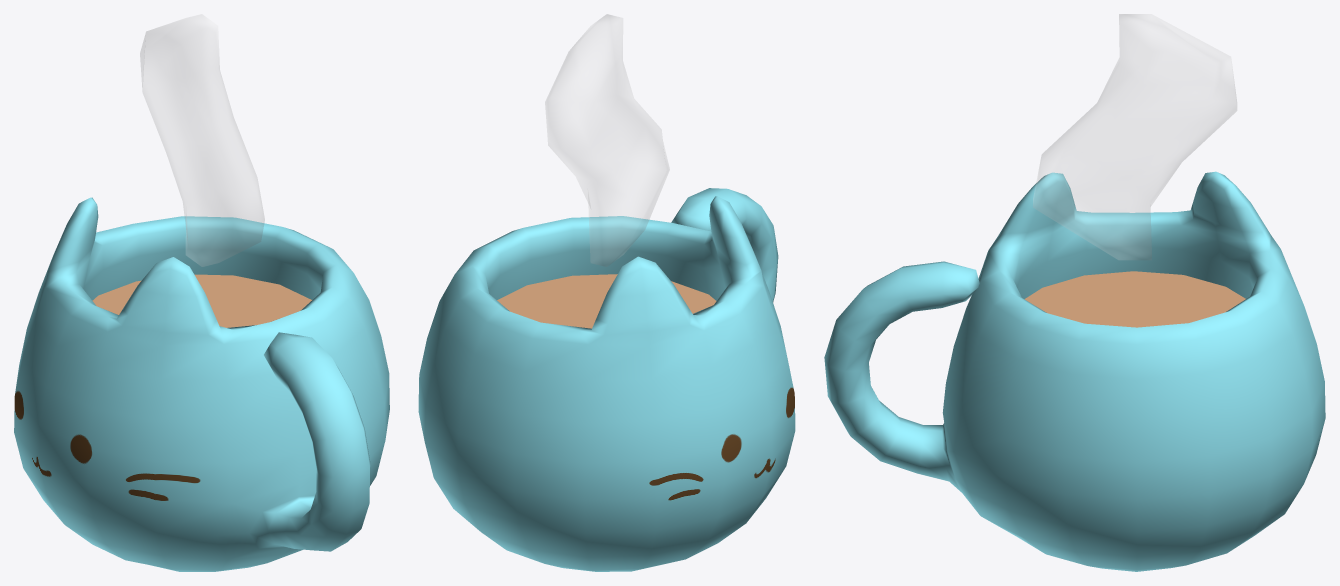
The model's file is cat_mug.glb.
3 views of the same model, side by side, from view 1: azimuth 30°, elevation 25°; view 2: azimuth 150°, elevation 25°; view 3: azimuth 270°, elevation 25° (orthographic).
Visible parts, largest first — view 1: ceramic, steam2, liquid; view 2: ceramic, steam2, liquid; view 3: ceramic, steam2, liquid.
Boxes of the visible parts, bbox=[...] form: ceramic: bbox=[14, 197, 389, 571]; steam2: bbox=[140, 14, 264, 266]; liquid: bbox=[92, 274, 311, 327]; ceramic: bbox=[418, 188, 795, 571]; steam2: bbox=[545, 14, 669, 266]; liquid: bbox=[497, 274, 716, 328]; ceramic: bbox=[824, 171, 1325, 571]; steam2: bbox=[1033, 14, 1236, 259]; liquid: bbox=[1024, 271, 1245, 327].
Bounding box in the file's own units: 2.09 × 3.16 × 2.75.
Materials: 3 (1 with a texture image).
